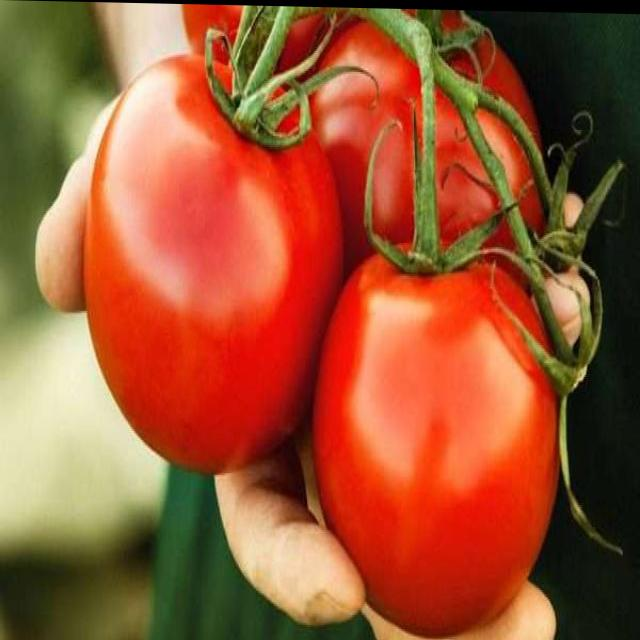kirmizi: (78, 51, 574, 630)
